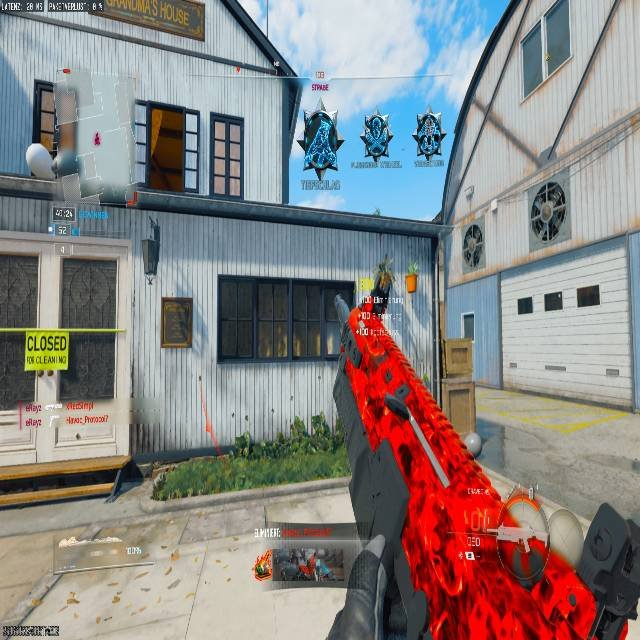head: (363, 331, 392, 365), (368, 283, 390, 312)
player: (301, 107, 342, 180), (529, 181, 567, 246), (412, 111, 445, 161), (360, 114, 393, 160), (461, 220, 484, 271)
